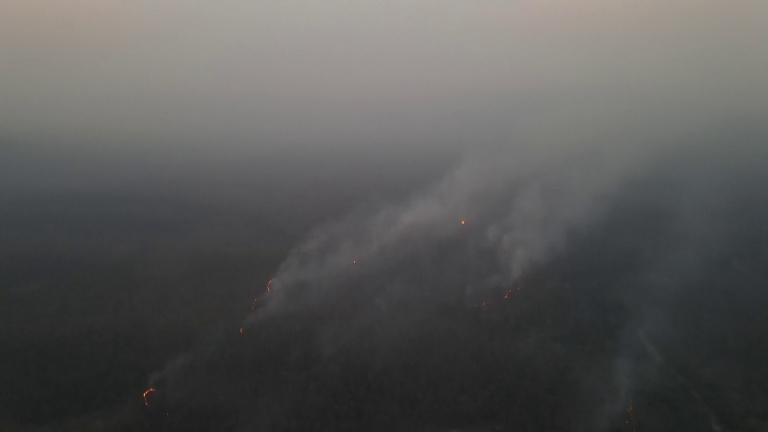fire: (234, 273, 282, 340), (462, 276, 533, 315), (615, 392, 642, 432), (135, 384, 158, 407), (348, 257, 360, 266), (459, 219, 467, 228)
smoke: (238, 113, 627, 346), (599, 260, 688, 430), (148, 353, 184, 390)
